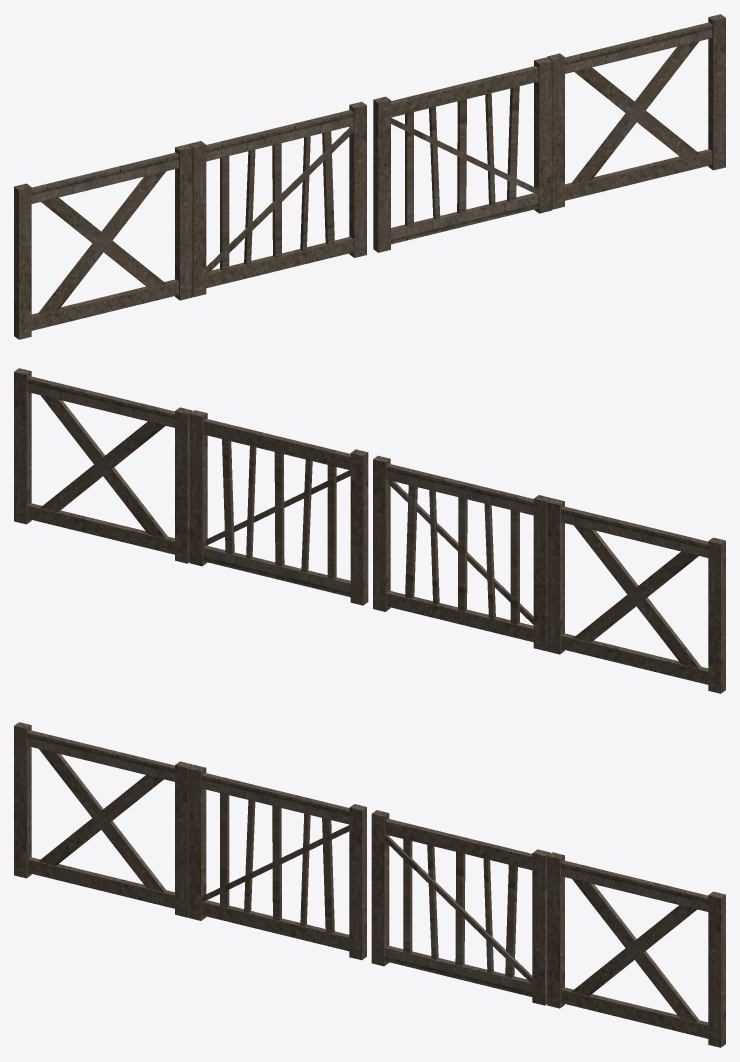
File: GD 3D Fence Wood w Doors.fbx
3 views of the same model, one above another, from view 1: azimuth 30°, elevation 25°; view 2: azimuth 150°, elevation 25°; view 3: azimuth 330°, elevation 25° (orthographic).
Parts seen in each view (by area): view 1: Wood Fence 2 w Doors; view 2: Wood Fence 2 w Doors; view 3: Wood Fence 2 w Doors.
Part boxes in pixels (x1,y1,x2,y2): Wood Fence 2 w Doors: (14,14,725,339); Wood Fence 2 w Doors: (14,368,725,693); Wood Fence 2 w Doors: (14,722,725,1047).
Size of the model in its own units: 423 by 85.53 by 6.2.
